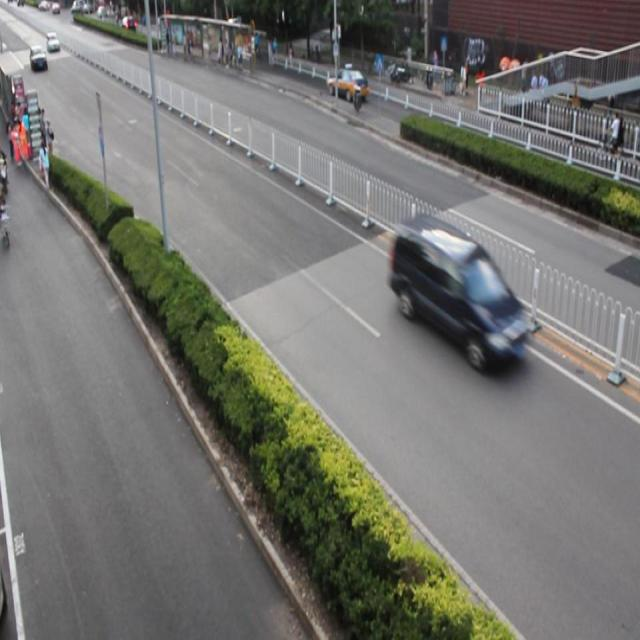car: (389, 215, 528, 369), (325, 63, 368, 103)
